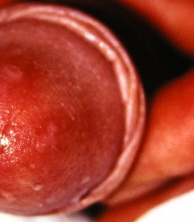SJS-TEN: (0, 0, 158, 222)
